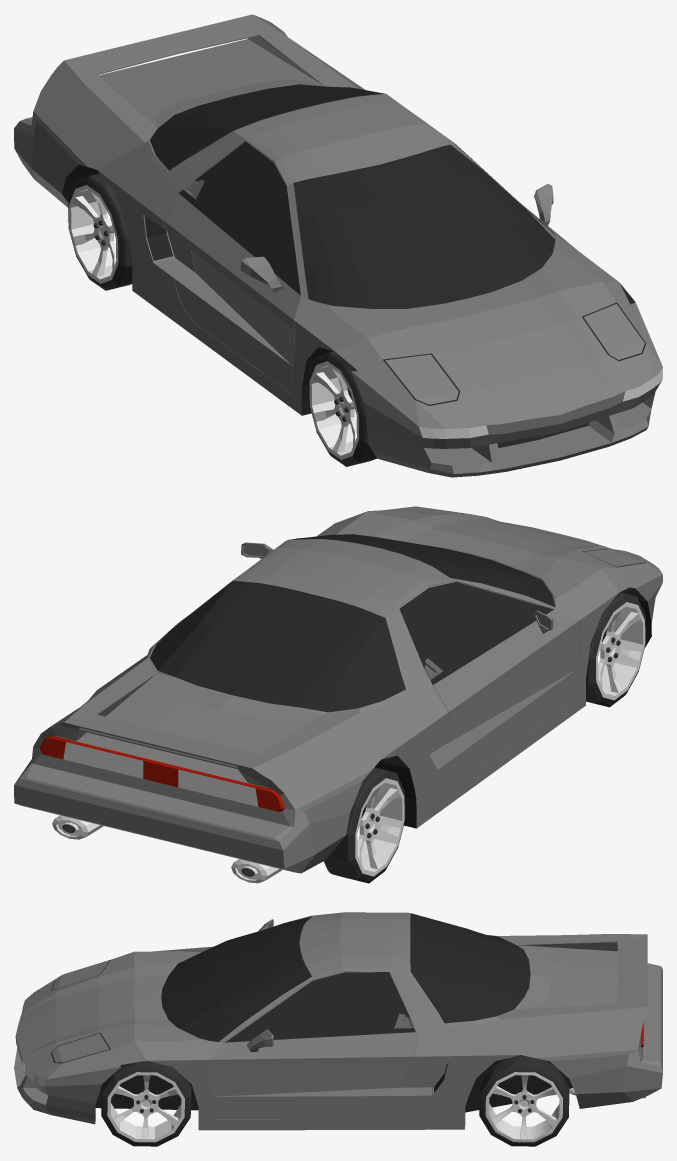
Rendered from Honda-NSX(L).fbx.
3 views of the same model, one above another, from view 1: azimuth 30°, elevation 25°; view 2: azimuth 150°, elevation 25°; view 3: azimuth 270°, elevation 25° (orthographic). The views are drawn at different scales.
Visible parts, largest first — view 1: Body, RearRightWheels, FrontRightWheels; view 2: Body, RearRightWheels, FrontRightWheels; view 3: Body, RearLeftWheels, FrontLeftWheels.
Boxes of the visible parts, <box> form: Body: <box>14,14,662,477</box>; RearRightWheels: <box>68,173,132,290</box>; FrontRightWheels: <box>309,351,376,466</box>; Body: <box>14,506,662,883</box>; RearRightWheels: <box>324,767,405,883</box>; FrontRightWheels: <box>586,592,645,707</box>; Body: <box>14,912,662,1130</box>; RearLeftWheels: <box>479,1055,569,1146</box>; FrontLeftWheels: <box>101,1061,191,1146</box>.
Bounding box in the file's own units: 1.88 × 1.16 × 4.34.
